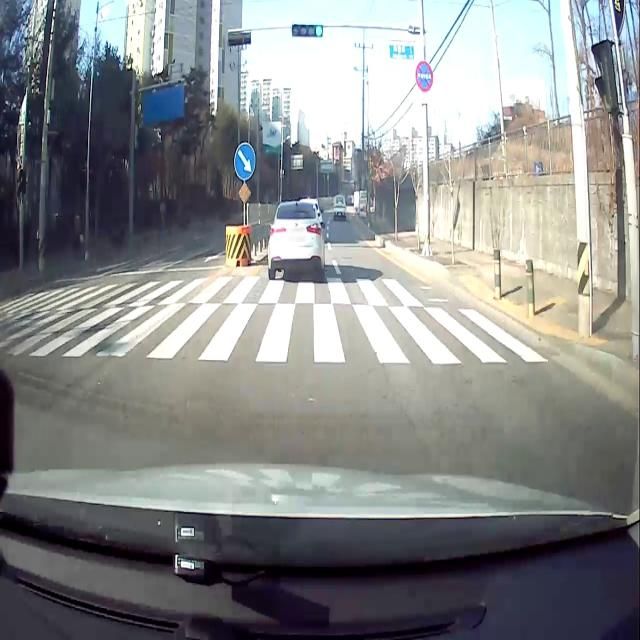Green Light: (314, 23, 324, 37)
